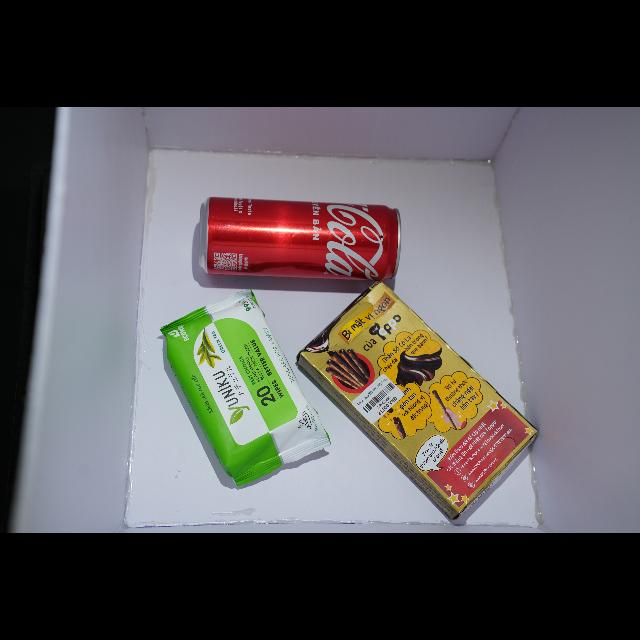banh_toppo_socola: (298, 283, 537, 520)
coca_cola: (203, 197, 400, 280)
khan_giay: (161, 291, 329, 486)
